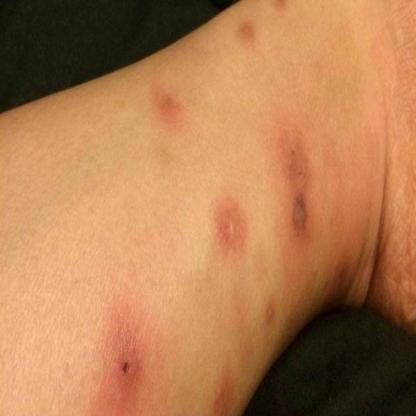Bed Bug: (277, 132, 313, 240), (211, 196, 256, 261), (108, 337, 152, 401), (153, 90, 196, 136), (206, 368, 244, 406), (235, 14, 258, 46)
